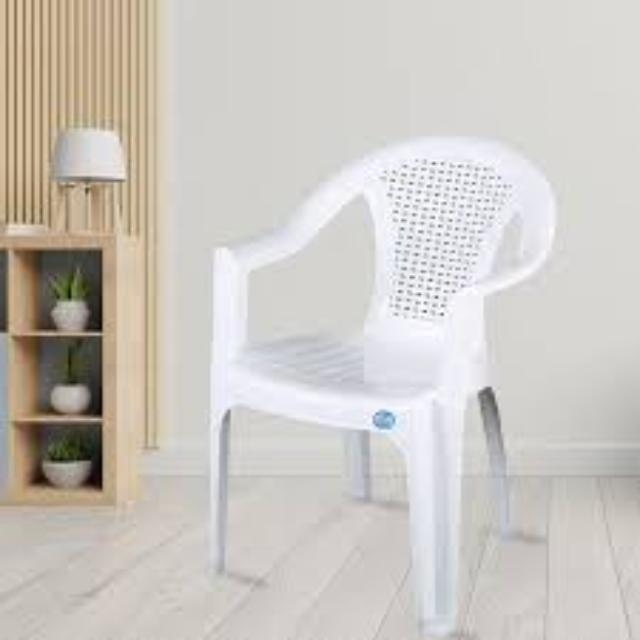obstacle: (198, 128, 540, 626)
